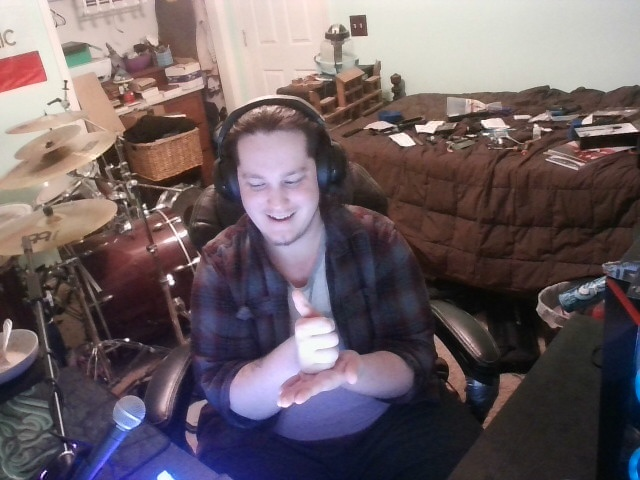help: (249, 275, 374, 414)
